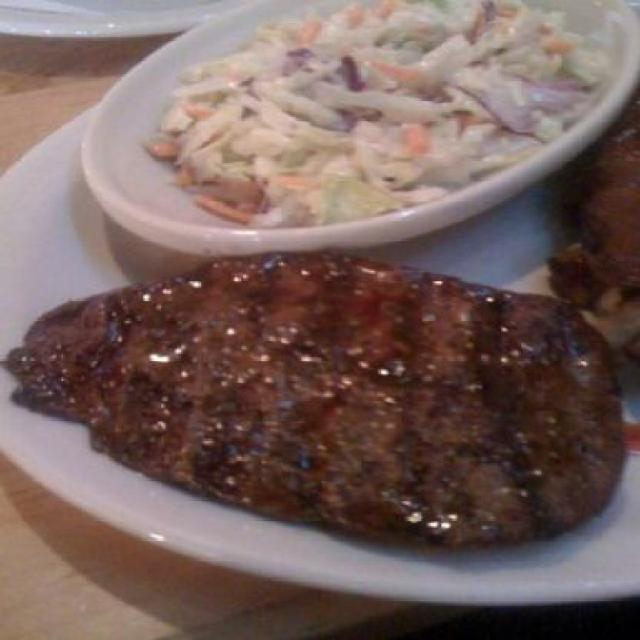Steak: (19, 248, 638, 550)
